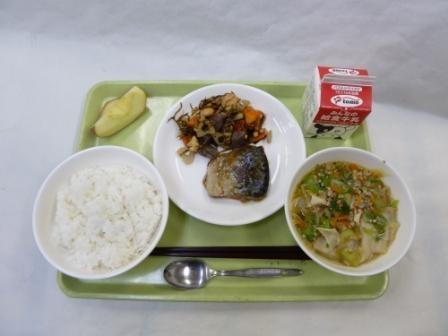Apple: (86, 81, 150, 143)
Fish: (198, 154, 277, 210)
Milk: (294, 59, 387, 147)
Rice: (32, 150, 164, 278)
Soups: (295, 159, 415, 275)
salad with sauce: (175, 100, 265, 156)
